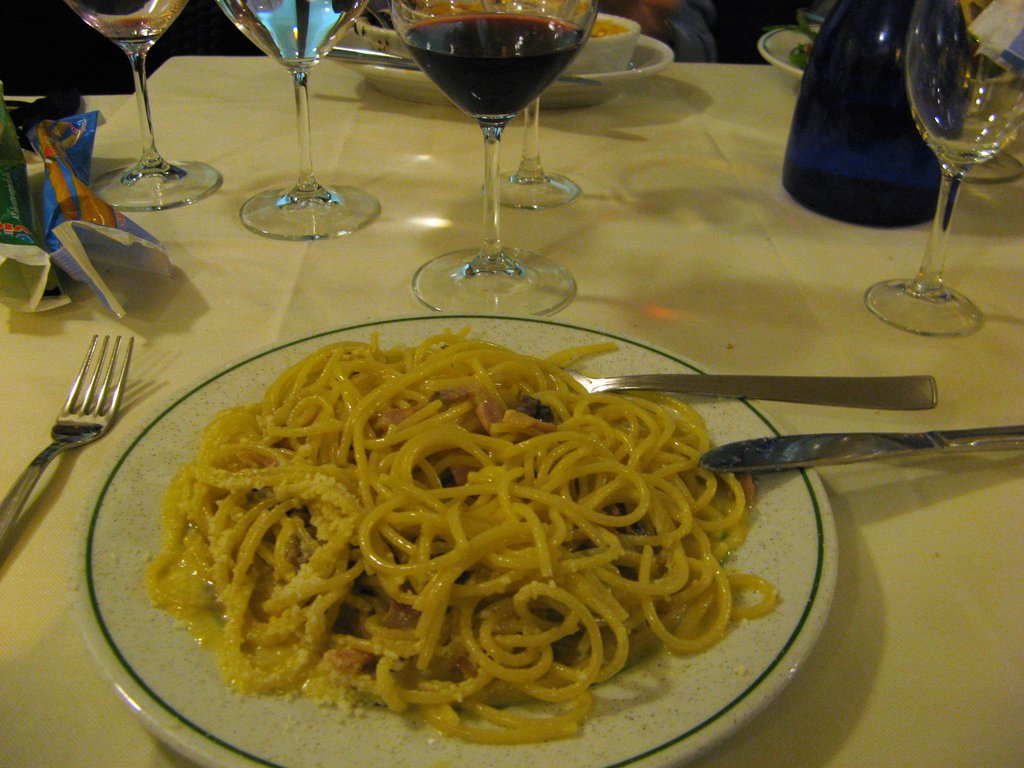pasta: (147, 330, 782, 747)
